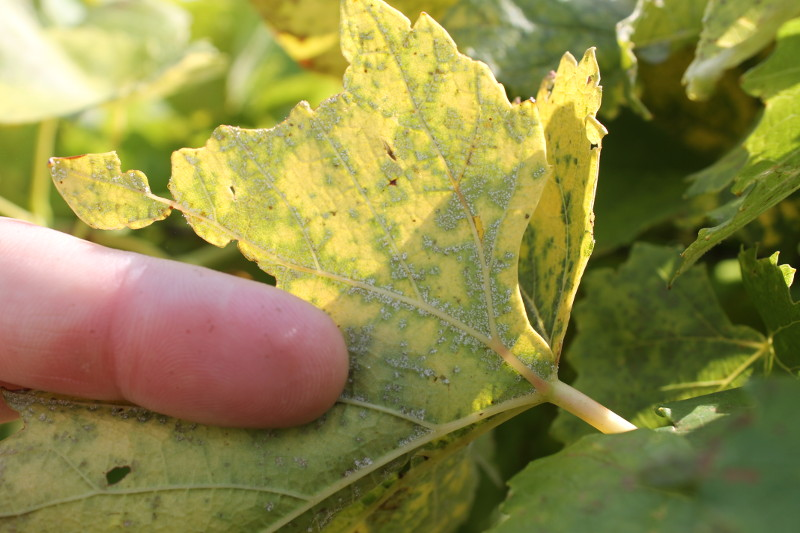downy: (307, 99, 496, 288), (356, 311, 471, 426), (1, 419, 100, 520), (192, 438, 283, 529), (201, 134, 291, 224), (59, 148, 148, 237)
